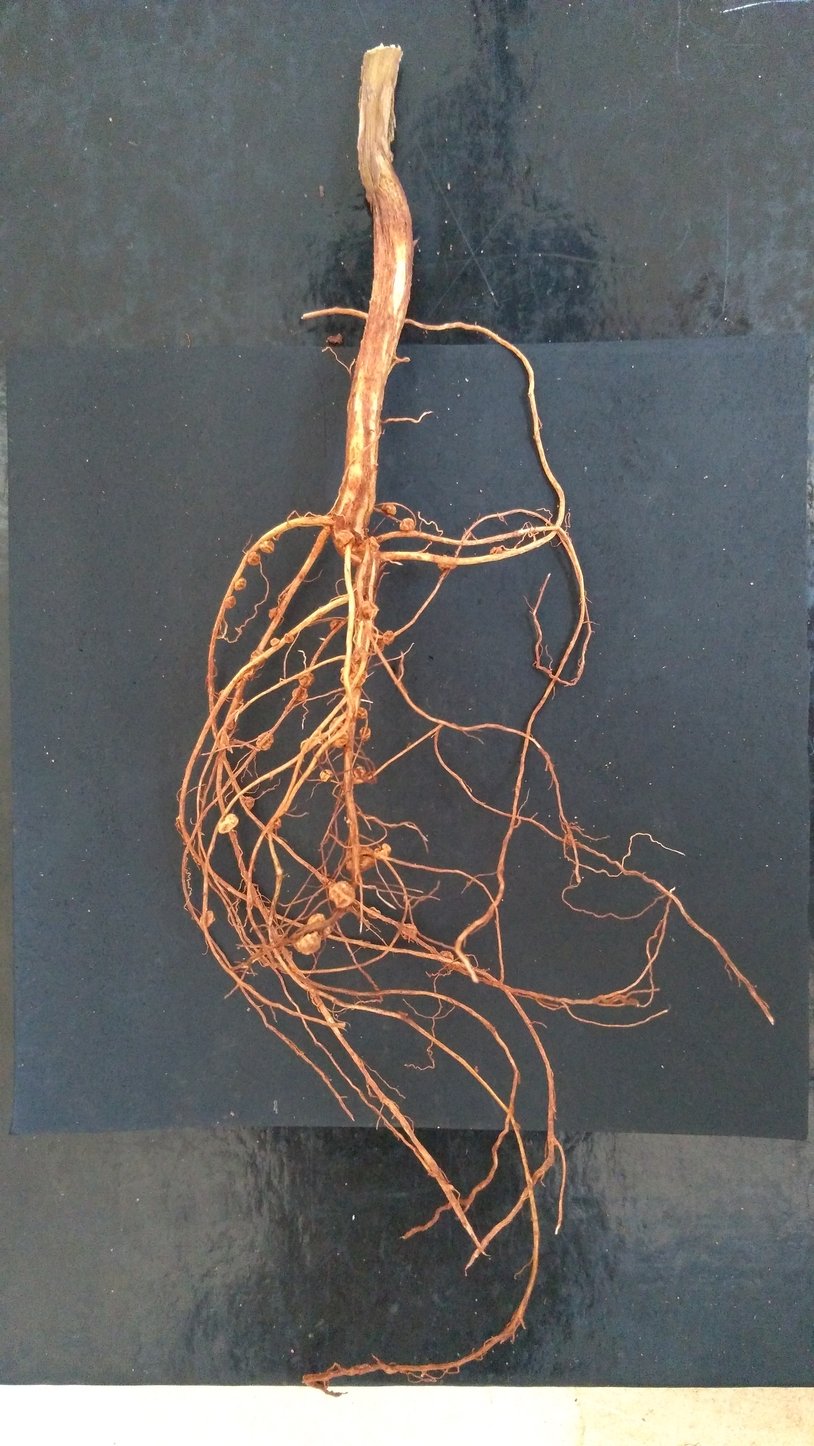nodule: (346, 845, 377, 871), (328, 881, 355, 908), (293, 931, 321, 955), (307, 914, 331, 937), (340, 666, 367, 686), (218, 814, 239, 834), (369, 628, 385, 653), (359, 601, 378, 620), (330, 730, 349, 747), (257, 732, 274, 750), (400, 923, 417, 940), (374, 843, 391, 860), (336, 530, 353, 547), (250, 650, 265, 669), (298, 671, 314, 687), (292, 686, 308, 701), (200, 910, 213, 927), (439, 951, 454, 965), (329, 716, 344, 730), (260, 540, 274, 553), (381, 503, 396, 515), (399, 518, 414, 530), (367, 907, 381, 919), (243, 796, 255, 810), (383, 630, 394, 645), (438, 561, 456, 570), (320, 770, 333, 782), (354, 765, 366, 778), (234, 577, 246, 590), (248, 552, 260, 565), (370, 536, 380, 551), (356, 707, 368, 719), (360, 726, 370, 740), (225, 596, 236, 608), (272, 817, 282, 829), (489, 547, 503, 555), (269, 607, 278, 618), (270, 637, 280, 646), (285, 633, 294, 642), (330, 620, 339, 629), (227, 720, 235, 730), (218, 689, 224, 698), (346, 818, 353, 825)
